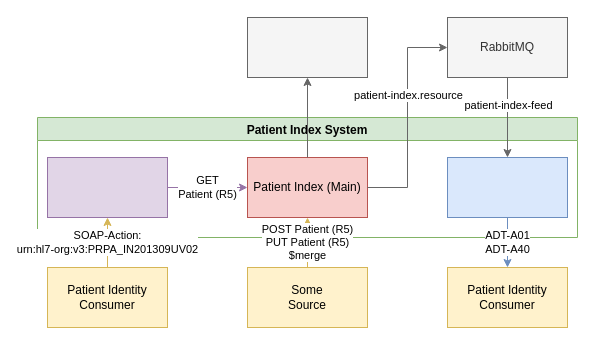
Image size: 595x345. Some labels were removed from this diagram. Here are the shapes that lost their labels. From the top down, the centre of each, then its label:
At (x=307, y=47): "PostgreSQL Database".
At (x=107, y=187): "Patient Index Web Service".
At (x=507, y=187): "Patient Index Feed".
